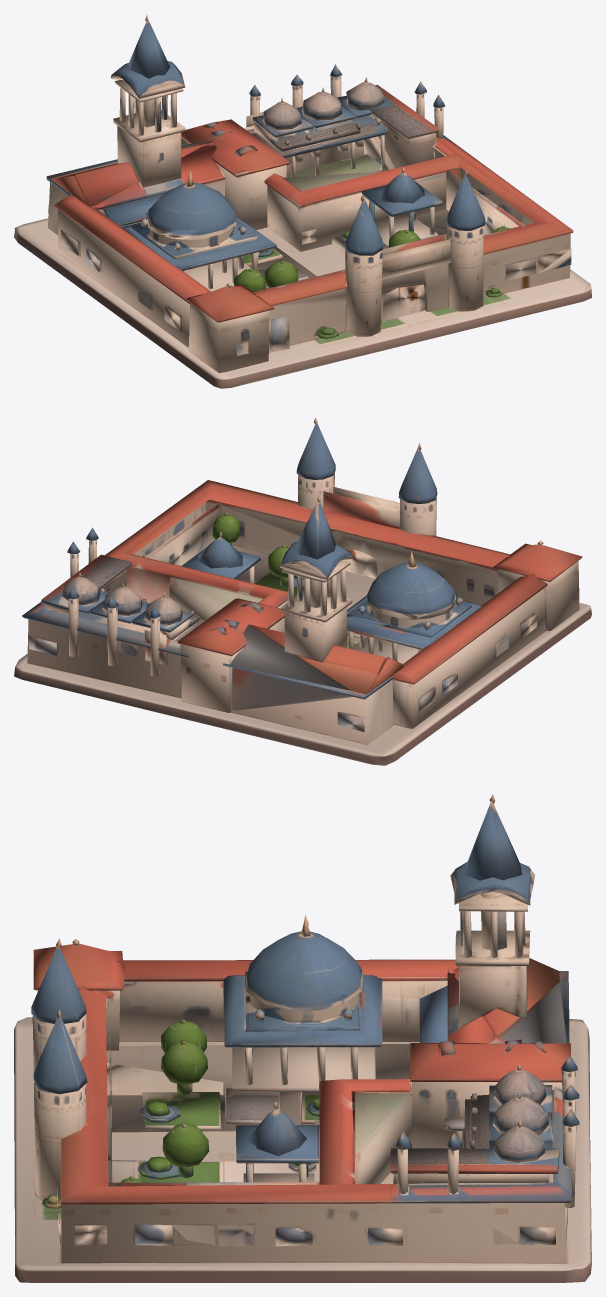
The model's file is topkapi-palace.glb.
3 renders of one model, top to bottom at view 1: azimuth 30°, elevation 25°; view 2: azimuth 150°, elevation 25°; view 3: azimuth 270°, elevation 25°, orthographic. The views are drawn at different scales.
Visible parts, largest first — view 1: mesh_node; view 2: mesh_node; view 3: mesh_node.
Boxes of the visible parts, x1,y1,x2,y2 form: mesh_node: [14, 15, 591, 388]; mesh_node: [14, 417, 591, 765]; mesh_node: [14, 794, 591, 1282].
Size of the model in its own units: 1 by 0.5664 by 0.9688.
1 material, 1 textured.
